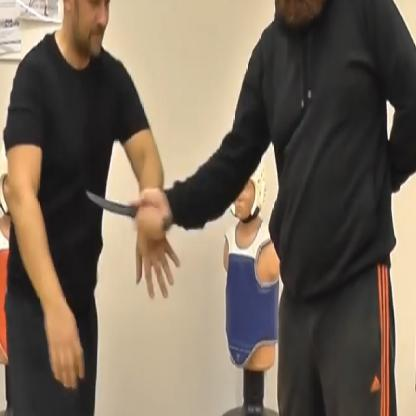knife: (80, 177, 163, 238)
